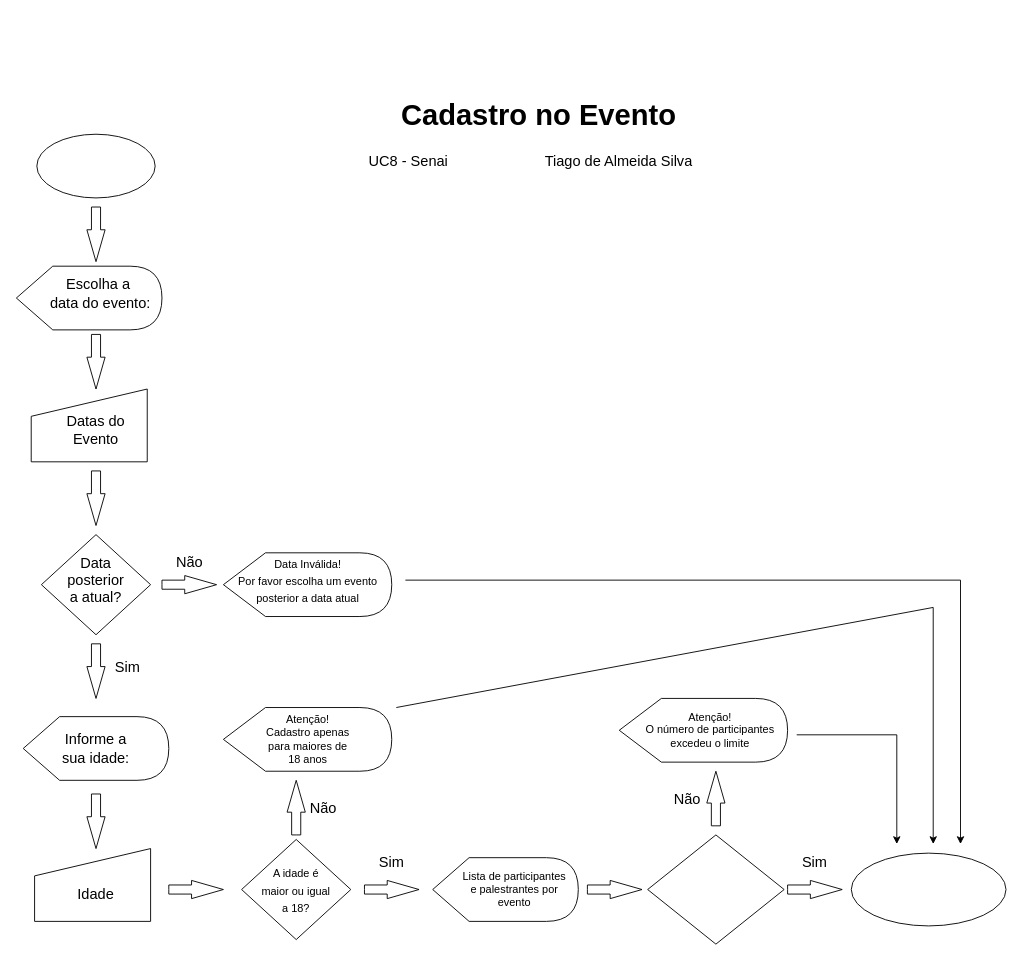
Image size: 1022x960. Some labels were removed from this diagram. Each missing label, with the centre of its shape:
"A quantidade de participantes é menor que 100?" belongs at pixel 715 889.
"Fim" belongs at pixel 928 889.
"Inicio" belongs at pixel 95 165.
